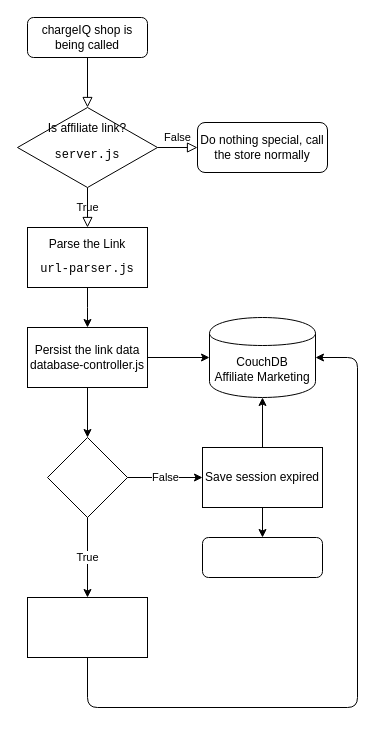
Image size: 383x733. Some labels were removed from this diagram. Here are the shapes that lost their labels. From the top down, the box of each, then its label:
(46, 436, 128, 518): Is cookie still alive?
(202, 536, 322, 578): End the affiliate session
(26, 596, 148, 658): Refund affiliate purchase and save external payment message
